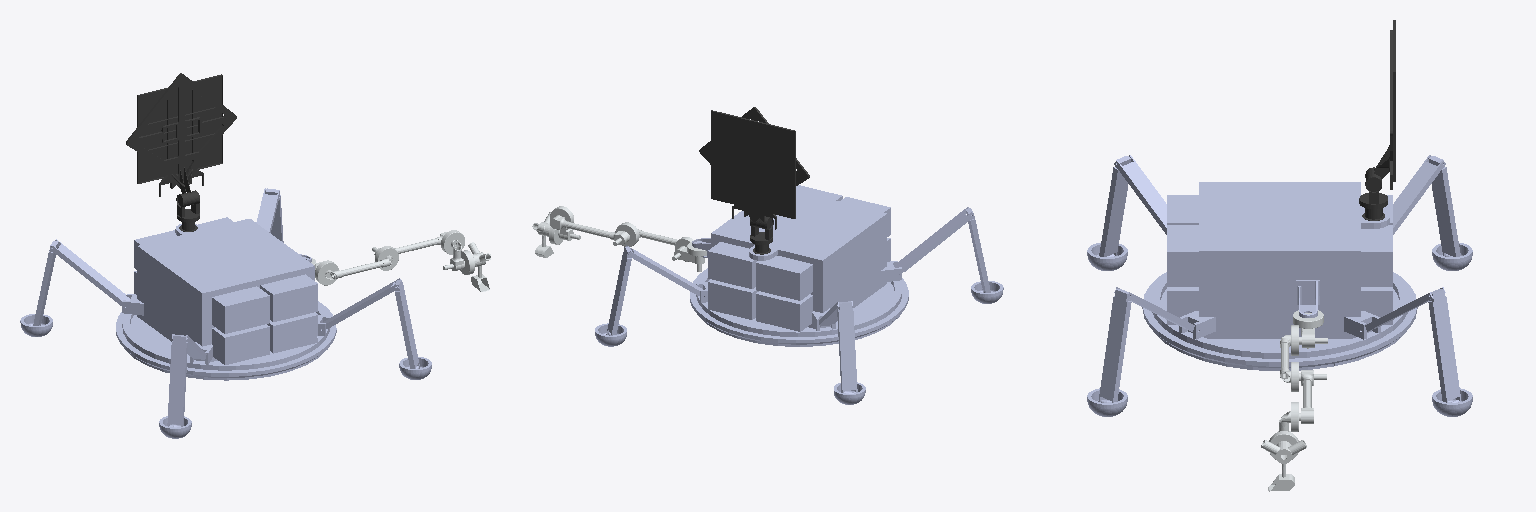
The robot description file, URDF, robot "lander_urdf_v9":
<robot name="lander_urdf_v9">
    <link name="base_link">
        
<inertial>
            <origin xyz="0.002242 0.0014227 0.3241" rpy="0 0 0" />
            <mass value="921.41" />
            <inertia ixx="32.997" ixy="-0.36205" ixz="-0.10255" iyy="34.208" iyz="-0.031969" izz="63.349" />
        </inertial>

        <visual>
            <origin xyz="0 0 0" rpy="0 0 0" />
            <geometry>
                <mesh filename="package://ow_lander/meshes/base_link.STL" />
            </geometry>
            <material name="">
                <color rgba="0.79216 0.81961 0.93333 1" />
            </material>
        </visual>
        <collision>
            <origin xyz="0 0 0" rpy="0 0 0" />
            <geometry>
                <mesh filename="package://ow_lander/meshes/base_link.STL" />
            </geometry>
        </collision>
    </link>
    <link name="l_shou">
        
<inertial>
            <origin xyz="0.0591309542444923 0.00156004002922039 -0.0211248119973624" rpy="0 0 0" />
            <mass value="7.02920774782214" />
            <inertia ixx="0.0104575300282247" ixy="-0.000601021251095754" ixz="-0.00827528301657843" iyy="0.0383526039269065" iyz="-0.000231653878395009" izz="0.0311579762615783" />
        </inertial>

        <visual>
            <origin xyz="0 0 0" rpy="0 0 0" />
            <geometry>
                <mesh filename="package://ow_lander/meshes/l_shou.STL" />
            </geometry>
            <material name="">
                <color rgba="0.898039215686275 0.917647058823529 0.929411764705882 1" />
            </material>
        </visual>
        <collision>
            <origin xyz="0 0 0" rpy="0 0 0" />
            <geometry>
                <mesh filename="package://ow_lander/meshes/l_shou.STL" />
            </geometry>
        </collision>
    </link>
    <joint name="j_shou_yaw" type="continuous">
        <origin xyz="0.79 0.175 0.27" rpy="-3.1416 0 0" />
        <parent link="base_link" />
        <child link="l_shou" />
        <axis xyz="0 0 -1" />
    </joint>
    <link name="l_prox">
        
<inertial>
            <origin xyz="0.162254123421932 -1.66533453693773E-16 -0.104457937721983" rpy="0 0 0" />
            <mass value="4.19335228756063" />
            <inertia ixx="0.010970201330525" ixy="-1.57434663712407E-07" ixz="0.00200163732633334" iyy="0.134978241858844" iyz="1.14891258563061E-18" izz="0.124008040530309" />
        </inertial>

        <visual>
            <origin xyz="0 0 0" rpy="0 0 0" />
            <geometry>
                <mesh filename="package://ow_lander/meshes/l_prox.STL" />
            </geometry>
            <material name="">
                <color rgba="0.898039215686275 0.917647058823529 0.929411764705882 1" />
            </material>
        </visual>
        <collision>
            <origin xyz="0 0 0" rpy="0 0 0" />
            <geometry>
                <mesh filename="package://ow_lander/meshes/l_prox.STL" />
            </geometry>
        </collision>
    </link>
    <joint name="j_shou_pitch" type="revolute">
        <origin xyz="0.16 0 0" rpy="1.5708 -2.4652E-32 0" />
        <parent link="l_shou" />
        <child link="l_prox" />
        <limit effort="50" velocity="1.0" lower="-0.1" upper="2.2" />
        <axis xyz="0 0 -1" />
    </joint>
    <link name="l_dist">
        
<inertial>
            <origin xyz="0.221081948151538 -5.55111512312578E-16 -0.0307957719833337" rpy="0 0 0" />
            <mass value="7.47049693100743" />
            <inertia ixx="0.00621200133375043" ixy="-7.94830322787864E-08" ixz="-0.0264356399717985" iyy="0.444337175366728" iyz="2.25893478477412E-17" izz="0.43812517403302" />
        </inertial>

        <visual>
            <origin xyz="0 0 0" rpy="0 0 0" />
            <geometry>
                <mesh filename="package://ow_lander/meshes/l_dist.STL" />
            </geometry>
            <material name="">
                <color rgba="0.898039215686275 0.917647058823529 0.929411764705882 1" />
            </material>
        </visual>
        <collision>
            <origin xyz="0 0 0" rpy="0 0 0" />
            <geometry>
                <mesh filename="package://ow_lander/meshes/l_dist.STL" />
            </geometry>
        </collision>
    </link>
    <joint name="j_prox_pitch" type="continuous">
        <origin xyz="0.53 0 0" rpy="9.7855E-17 0 -4.9304E-32" />
        <parent link="l_prox" />
        <child link="l_dist" />
        <axis xyz="0 0 -1" />
    </joint>
    <link name="l_wrist">
        
<inertial>
            <origin xyz="0.0815501188839358 0.00258480207251011 -0.0286945140138527" rpy="0 0 0" />
            <mass value="4.24254588886639" />
            <inertia ixx="0.00600454075116932" ixy="-0.000821319339321742" ixz="-0.00975159245248633" iyy="0.0288075930851101" iyz="-0.000314668908607835" izz="0.0262750836489082" />
        </inertial>

        <visual>
            <origin xyz="0 0 0" rpy="0 0 0" />
            <geometry>
                <mesh filename="package://ow_lander/meshes/l_wrist.STL" />
            </geometry>
            <material name="">
                <color rgba="0.898039215686275 0.917647058823529 0.929411764705882 1" />
            </material>
        </visual>
        <collision>
            <origin xyz="0 0 0" rpy="0 0 0" />
            <geometry>
                <mesh filename="package://ow_lander/meshes/l_wrist.STL" />
            </geometry>
        </collision>
    </link>
    <joint name="j_dist_pitch" type="continuous">
        <origin xyz="0.586 0 -0.15" rpy="3.1416 2.1341E-16 1.5708" />
        <parent link="l_dist" />
        <child link="l_wrist" />
        <axis xyz="0 0 1" />
    </joint>
    <link name="l_hand">
        
<inertial>
            <origin xyz="-0.00481701429042641 -3.3345796601747E-07 0.076155053161125" rpy="0 0 0" />
            <mass value="3.08554586923443" />
            <inertia ixx="0.00868815536634117" ixy="-7.25951344207531E-09" ixz="-0.000954522050362788" iyy="0.00879302369591146" iyz="-6.60768189073236E-08" izz="0.000104868330575369" />
        </inertial>

        <visual>
            <origin xyz="0 0 0" rpy="0 0 0" />
            <geometry>
                <mesh filename="package://ow_lander/meshes/l_hand.STL" />
            </geometry>
            <material name="">
                <color rgba="0.898039215686275 0.917647058823529 0.929411764705882 1" />
            </material>
        </visual>
        <collision>
            <origin xyz="0 0 0" rpy="0 0 0" />
            <geometry>
                <mesh filename="package://ow_lander/meshes/l_hand.STL" />
            </geometry>
        </collision>
    </link>
    <joint name="j_hand_yaw" type="continuous">
        <origin xyz="0.163 0.2 0" rpy="1.5708 2.8911E-17 -3.228E-16" />
        <parent link="l_wrist" />
        <child link="l_hand" />
        <axis xyz="0 0 -1" />
    </joint>
    <link name="l_scoop">
        
<inertial>
            <origin xyz="0.00131473194901655 -1.3855583347322E-13 0.0453283797652499" rpy="0 0 0" />
            <mass value="0.191928708332057" />
            <inertia ixx="0" ixy="0" ixz="0" iyy="0" iyz="0" izz="0" />
        </inertial>

        <visual>
            <origin xyz="0 0 0" rpy="0 0 0" />
            <geometry>
                <mesh filename="package://ow_lander/meshes/l_scoop.STL" />
            </geometry>
            <material name="">
                <color rgba="0.898039215686275 0.917647058823529 0.929411764705882 1" />
            </material>
        </visual>
        <collision>
            <origin xyz="0 0 0" rpy="0 0 0" />
            <geometry>
                <mesh filename="package://ow_lander/meshes/l_scoop.STL" />
            </geometry>
        </collision>
    </link>
    <joint name="j_scoop_yaw" type="continuous">
        <origin xyz="0.15 0 0" rpy="1.5708 -1.1102E-16 1.5708" />
        <parent link="l_hand" />
        <child link="l_scoop" />
        <axis xyz="0 0 -1" />
    </joint>
    <link name="l_ant_foot">
        
<inertial>
            <origin xyz="-2.24681384608516E-13 8.58202398035246E-14 -0.144967812675424" rpy="0 0 0" />
            <mass value="0.939669875432375" />
            <inertia ixx="0.00117207134038222" ixy="0" ixz="-7.82772555445884E-19" iyy="0.00117207134038222" iyz="-3.15358387393983E-19" izz="6.66650715817228E-34" />
        </inertial>

        <visual>
            <origin xyz="0 0 0" rpy="0 0 0" />
            <geometry>
                <mesh filename="package://ow_lander/meshes/l_ant_foot.STL" />
            </geometry>
            <material name="">
                <color rgba="0.294117647058824 0.294117647058824 0.294117647058824 1" />
            </material>
        </visual>
        <collision>
            <origin xyz="0 0 0" rpy="0 0 0" />
            <geometry>
                <mesh filename="package://ow_lander/meshes/l_ant_foot.STL" />
            </geometry>
        </collision>
    </link>
    <joint name="j_ant_pan" type="continuous">
        <origin xyz="0 0.58 0.675" rpy="-3.1416 0 0" />
        <parent link="base_link" />
        <child link="l_ant_foot" />
        <axis xyz="0 0 -1" />
    </joint>
    <link name="l_ant_panel">
        
<inertial>
            <origin xyz="0.471831233065397 0.106375900601898 -0.000999999214864045" rpy="0 0 0" />
            <mass value="16.0257517514408" />
            <inertia ixx="0.0128625280820728" ixy="-0.0550577074342039" ixz="4.59706499938512E-09" iyy="0.252496809842602" iyz="4.83511231053058E-10" izz="0.265359337924673" />
        </inertial>

        <visual>
            <origin xyz="0 0 0" rpy="0 0 0" />
            <geometry>
                <mesh filename="package://ow_lander/meshes/l_ant_panel.STL" />
            </geometry>
            <material name="">
                <color rgba="0.294117647058824 0.294117647058824 0.294117647058824 1" />
            </material>
        </visual>
        <collision>
            <origin xyz="0 0 0" rpy="0 0 0" />
            <geometry>
                <mesh filename="package://ow_lander/meshes/l_ant_panel.STL" />
            </geometry>
        </collision>
    </link>
    <joint name="j_ant_tilt" type="continuous">
        <origin xyz="0 0 -0.24805" rpy="3.1416 1.5708 0" />
        <parent link="l_ant_foot" />
        <child link="l_ant_panel" />
        <axis xyz="0 0 -1" />
    </joint>
    
<transmission name="trans_j_shou_yaw">
        <type>transmission_interface/SimpleTransmission</type>
        <joint name="j_shou_yaw">
            <hardwareInterface>hardware_interface/EffortJointInterface</hardwareInterface>
        </joint>
        <actuator name="j_shou_yaw_motor">
            <hardwareInterface>hardware_interface/EffortJointInterface</hardwareInterface>
            <mechanicalReduction>1</mechanicalReduction>
        </actuator>
    </transmission>
    <transmission name="trans_j_shou_pitch">
        <type>transmission_interface/SimpleTransmission</type>
        <joint name="j_shou_pitch">
            <hardwareInterface>hardware_interface/EffortJointInterface</hardwareInterface>
        </joint>
        <actuator name="j_shou_pitch_motor">
            <hardwareInterface>hardware_interface/EffortJointInterface</hardwareInterface>
            <mechanicalReduction>1</mechanicalReduction>
        </actuator>
    </transmission>
    <transmission name="trans_j_prox_pitch">
        <type>transmission_interface/SimpleTransmission</type>
        <joint name="j_prox_pitch">
            <hardwareInterface>hardware_interface/EffortJointInterface</hardwareInterface>
        </joint>
        <actuator name="j_prox_pitch_motor">
            <hardwareInterface>hardware_interface/EffortJointInterface</hardwareInterface>
            <mechanicalReduction>1</mechanicalReduction>
        </actuator>
    </transmission>
    <transmission name="trans_j_dist_pitch">
        <type>transmission_interface/SimpleTransmission</type>
        <joint name="j_dist_pitch">
            <hardwareInterface>hardware_interface/EffortJointInterface</hardwareInterface>
        </joint>
        <actuator name="j_dist_pitch_motor">
            <hardwareInterface>hardware_interface/EffortJointInterface</hardwareInterface>
            <mechanicalReduction>1</mechanicalReduction>
        </actuator>
    </transmission>
    <transmission name="trans_j_hand_yaw">
        <type>transmission_interface/SimpleTransmission</type>
        <joint name="j_hand_yaw">
            <hardwareInterface>hardware_interface/EffortJointInterface</hardwareInterface>
        </joint>
        <actuator name="j_hand_yaw_motor">
            <hardwareInterface>hardware_interface/EffortJointInterface</hardwareInterface>
            <mechanicalReduction>1</mechanicalReduction>
        </actuator>
    </transmission>
    <transmission name="trans_j_scoop_yaw">
        <type>transmission_interface/SimpleTransmission</type>
        <joint name="j_scoop_yaw">
            <hardwareInterface>hardware_interface/EffortJointInterface</hardwareInterface>
        </joint>
        <actuator name="j_scoop_yaw_motor">
            <hardwareInterface>hardware_interface/EffortJointInterface</hardwareInterface>
            <mechanicalReduction>1</mechanicalReduction>
        </actuator>
    </transmission>
    <transmission name="trans_j_ant_pan">
        <type>transmission_interface/SimpleTransmission</type>
        <joint name="j_ant_pan">
            <hardwareInterface>hardware_interface/EffortJointInterface</hardwareInterface>
        </joint>
        <actuator name="j_ant_pan_motor">
            <hardwareInterface>hardware_interface/EffortJointInterface</hardwareInterface>
            <mechanicalReduction>1</mechanicalReduction>
        </actuator>
    </transmission>
    <transmission name="trans_j_ant_tilt">
        <type>transmission_interface/SimpleTransmission</type>
        <joint name="j_ant_tilt">
            <hardwareInterface>hardware_interface/EffortJointInterface</hardwareInterface>
        </joint>
        <actuator name="j_ant_tilt_motor">
            <hardwareInterface>hardware_interface/EffortJointInterface</hardwareInterface>
            <mechanicalReduction>1</mechanicalReduction>
        </actuator>
    </transmission>
    <gazebo>
        <plugin name="gazebo_ros_control" filename="libgazebo_ros_control.so">
            <robotNamespace>/</robotNamespace>
        </plugin>
    </gazebo>
</robot>

--- What the picture shows (computed from the rendered views, not written in the file) ---
3 views of the same robot in one strip: view 1: azimuth 30°, elevation 25°; view 2: azimuth 150°, elevation 25°; view 3: azimuth 270°, elevation 25° (orthographic).
Robot: lander_urdf_v9 — 9 links, 8 joints (1 revolute, 7 continuous); root link base_link; default pose: all joints at 0.
Links seen in each view (by area): view 1: base_link, l_ant_panel, l_prox, l_wrist, l_dist, l_ant_foot, l_hand; view 2: base_link, l_ant_panel, l_dist, l_ant_foot; view 3: base_link, l_ant_panel, l_hand, l_ant_foot, l_dist, l_prox, l_shou.
Boxes of the visible links, bbox=[...] form: base_link: bbox=[20, 188, 431, 438]; l_ant_panel: bbox=[126, 73, 236, 205]; l_prox: bbox=[315, 247, 392, 285]; l_wrist: bbox=[441, 230, 464, 270]; l_dist: bbox=[374, 232, 455, 270]; l_ant_foot: bbox=[176, 190, 199, 231]; l_hand: bbox=[460, 242, 490, 277]; base_link: bbox=[595, 185, 1003, 404]; l_ant_panel: bbox=[699, 107, 809, 229]; l_dist: bbox=[550, 215, 639, 246]; l_ant_foot: bbox=[750, 217, 773, 254]; base_link: bbox=[1087, 155, 1472, 416]; l_ant_panel: bbox=[1366, 20, 1395, 189]; l_hand: bbox=[1261, 431, 1306, 476]; l_ant_foot: bbox=[1359, 167, 1387, 220]; l_dist: bbox=[1291, 362, 1313, 423]; l_prox: bbox=[1280, 325, 1326, 382]; l_shou: bbox=[1293, 310, 1327, 348].
Size in the robot's own frame: 3.5 by 2.38 by 2.12 metres.
Meshes: 9 distinct files referenced, 9 mesh visuals loaded (9 binary STL).
